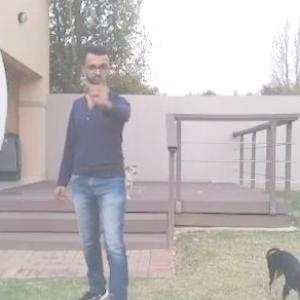takeoff-hand: (82, 67, 118, 114)
